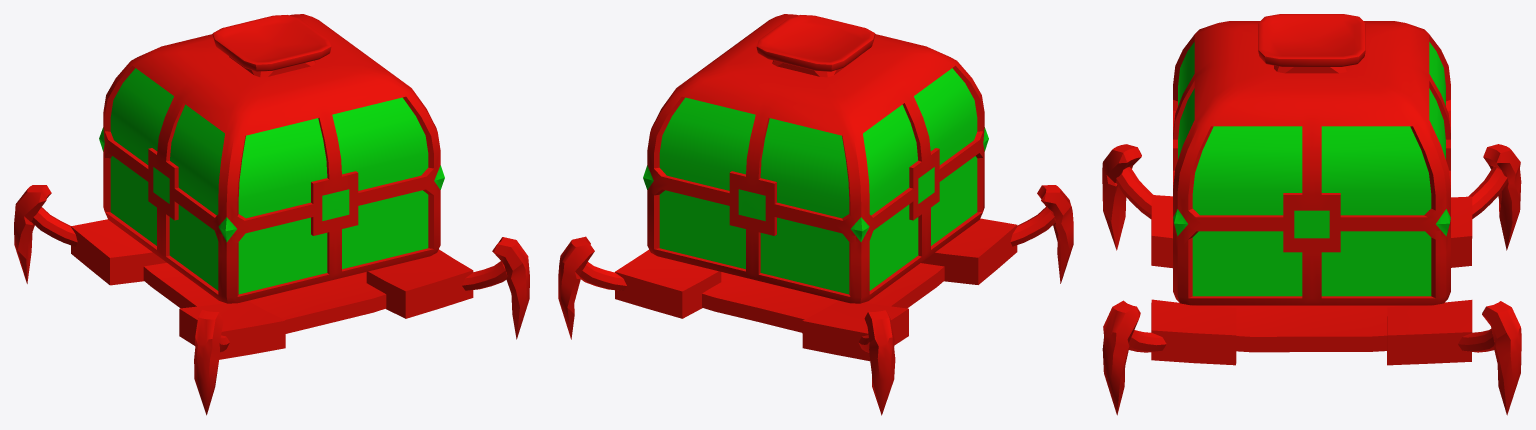
Rendered from PotImmuable.fbx.
3 views of the same model, side by side, from view 1: azimuth 30°, elevation 25°; view 2: azimuth 150°, elevation 25°; view 3: azimuth 270°, elevation 25° (orthographic). The views are drawn at different scales.
Visible parts, largest first — view 1: Pot, Base, Pieds.001; view 2: Pot, Base, Pieds.001; view 3: Pot, Base, Pieds.001.
Boxes of the visible parts, x1,y1,x2,y2 form: Pot: (99,14,444,303); Base: (71,219,473,359); Pieds.001: (14,185,529,415); Pot: (643,14,988,303); Base: (615,218,1017,361); Pieds.001: (558,185,1073,415); Pot: (1173,14,1450,305); Base: (1151,195,1472,365); Pieds.001: (1102,144,1521,415).
Bounding box in the file's own units: 245 × 192 × 245.
